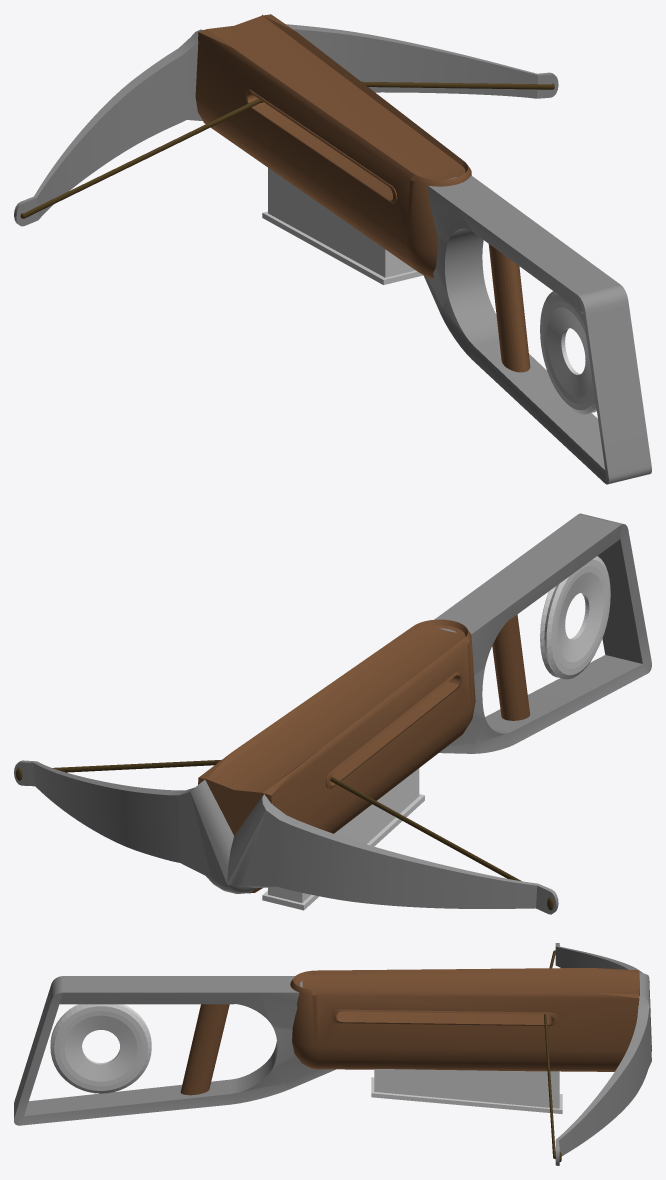
File: crossbow8.glb
3 renders of one model, top to bottom at view 1: azimuth 30°, elevation 25°; view 2: azimuth 150°, elevation 25°; view 3: azimuth 270°, elevation 25°, orthographic. The views are drawn at different scales.
Parts seen in each view (by area): view 1: Stock, Cube.008, Bow, Cube.009, Torus.001, Cylinder.001, String; view 2: Stock, Bow, Cube.008, Torus.001, Cube.009, Cylinder.001, String; view 3: Stock, Cube.008, Cube.009, Torus.001, Bow, Cylinder.001, String.
Part boxes in pixels (x1=…): Stock: x1=195, y1=14, x2=471, y2=278; Cube.008: x1=423, y1=175, x2=651, y2=484; Bow: x1=14, y1=14, x2=558, y2=226; Cube.009: x1=262, y1=168, x2=423, y2=284; Torus.001: x1=540, y1=291, x2=596, y2=414; Cylinder.001: x1=488, y1=244, x2=530, y2=372; String: x1=20, y1=81, x2=554, y2=218; Stock: x1=198, y1=619, x2=475, y2=893; Bow: x1=14, y1=760, x2=558, y2=914; Cube.008: x1=434, y1=513, x2=651, y2=753; Torus.001: x1=540, y1=556, x2=610, y2=679; Cube.009: x1=262, y1=768, x2=424, y2=910; Cylinder.001: x1=492, y1=614, x2=530, y2=720; String: x1=16, y1=760, x2=553, y2=910; Stock: x1=290, y1=968, x2=639, y2=1071; Cube.008: x1=14, y1=976, x2=335, y2=1125; Cube.009: x1=371, y1=1069, x2=562, y2=1114; Torus.001: x1=50, y1=1004, x2=151, y2=1093; Bow: x1=555, y1=943, x2=651, y2=1165; Cylinder.001: x1=180, y1=1004, x2=229, y2=1095; String: x1=544, y1=950, x2=561, y2=1161.
Size of the model in its own units: 1.96 by 0.6006 by 2.53.
